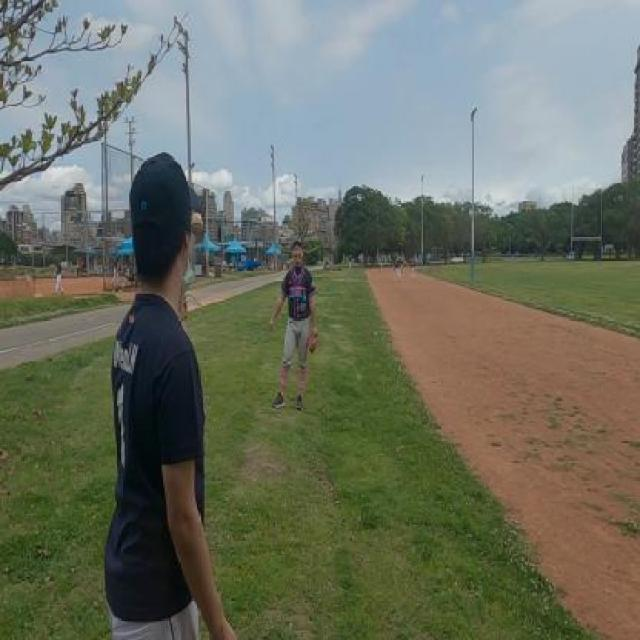baseball: (191, 212, 203, 236)
